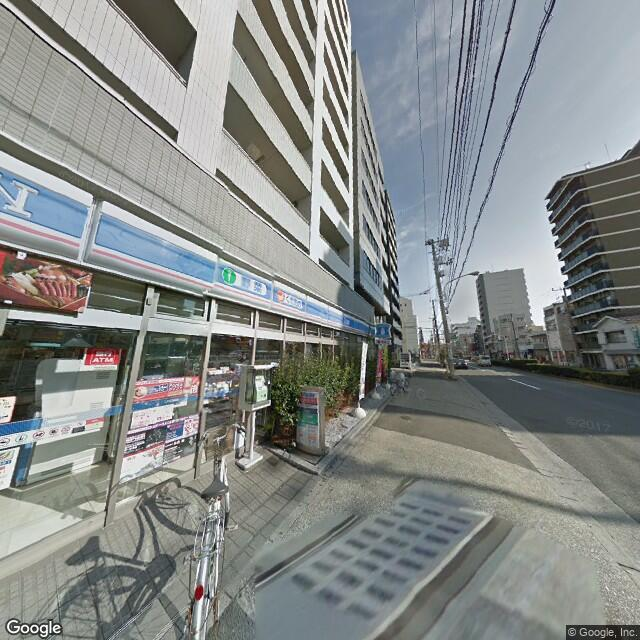lawson: (1, 147, 375, 345), (373, 318, 395, 343)
